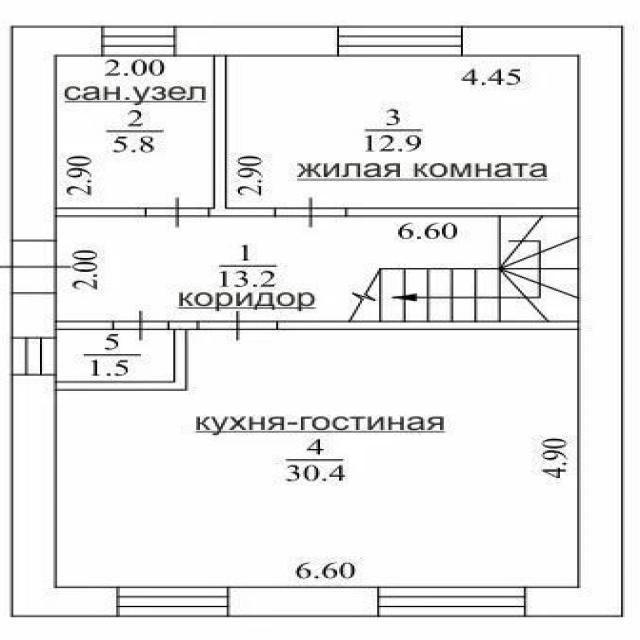Bathrooms: (57, 56, 213, 206)
Corridors: (57, 219, 345, 321), (58, 330, 174, 381)
Doors: (0, 240, 76, 293), (273, 197, 348, 231), (197, 311, 278, 342), (144, 197, 208, 230), (112, 309, 169, 342)
LBwalls: (462, 25, 624, 618), (11, 375, 117, 618), (11, 25, 103, 241), (176, 26, 339, 56), (228, 586, 378, 617), (12, 292, 56, 337)
Offices: (57, 330, 578, 586), (226, 55, 577, 207)
Stairs: (345, 218, 578, 320)
Walls: (207, 55, 275, 216), (56, 320, 199, 391), (277, 321, 578, 330), (346, 207, 579, 217), (56, 207, 146, 217), (57, 322, 113, 330)
Windows: (377, 587, 525, 617), (338, 25, 463, 56), (115, 587, 229, 618), (102, 26, 177, 56), (13, 337, 57, 376)
